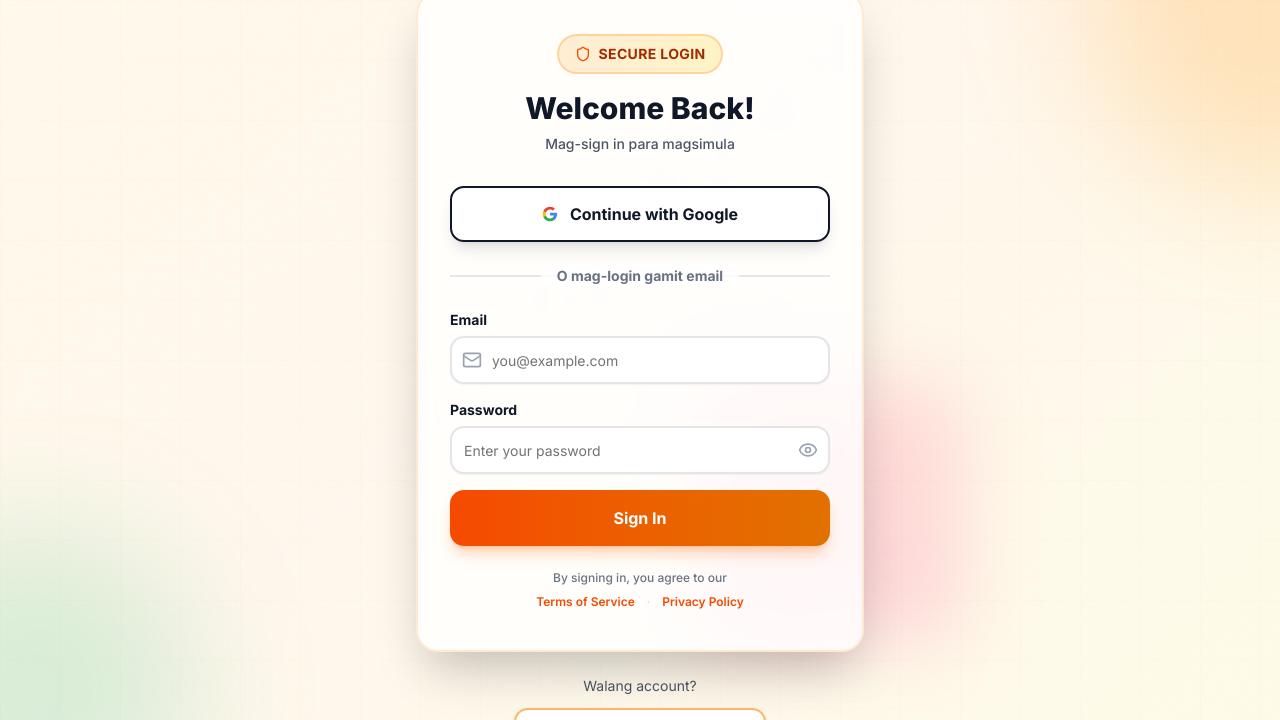
Scenario: Email Login - LoginPage › shows error for unconfirmed email
This screenshot has width=1280, height=720.
(page scrolled)
Type "unconfirmed@example.com" into the field labelled "Email".
click(640, 360); type("unconfirmed@example.com")  # box [450,336,830,384]
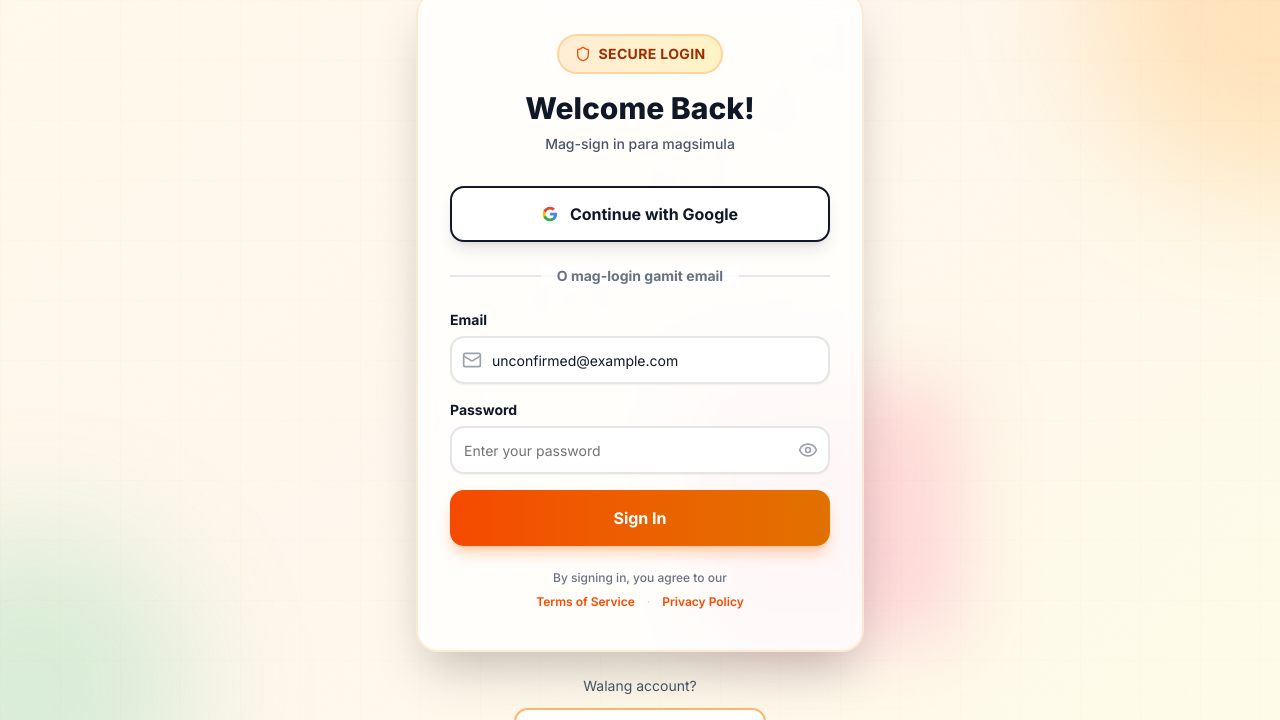
Type "password123" into the password field labelled "Password".
click(640, 450); type("password123")  # box [450,426,830,474]
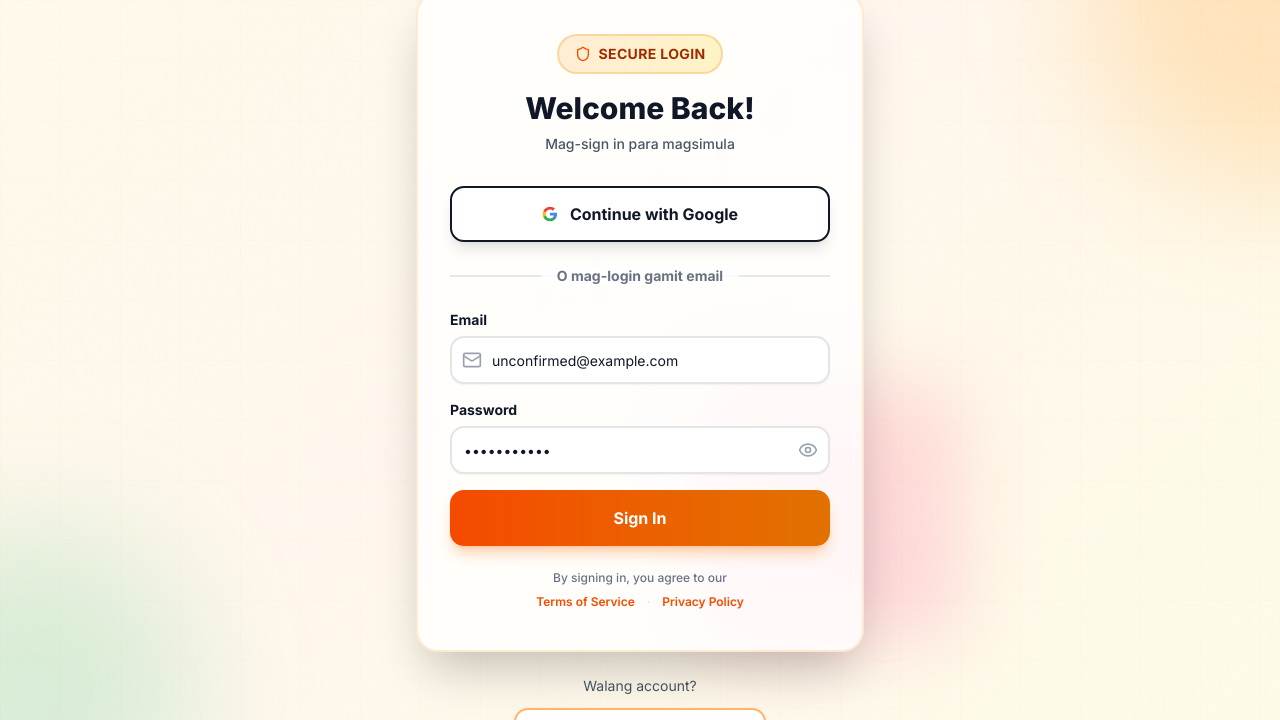
Click the button "Sign In".
click(640, 518)  # box [450,490,830,546]
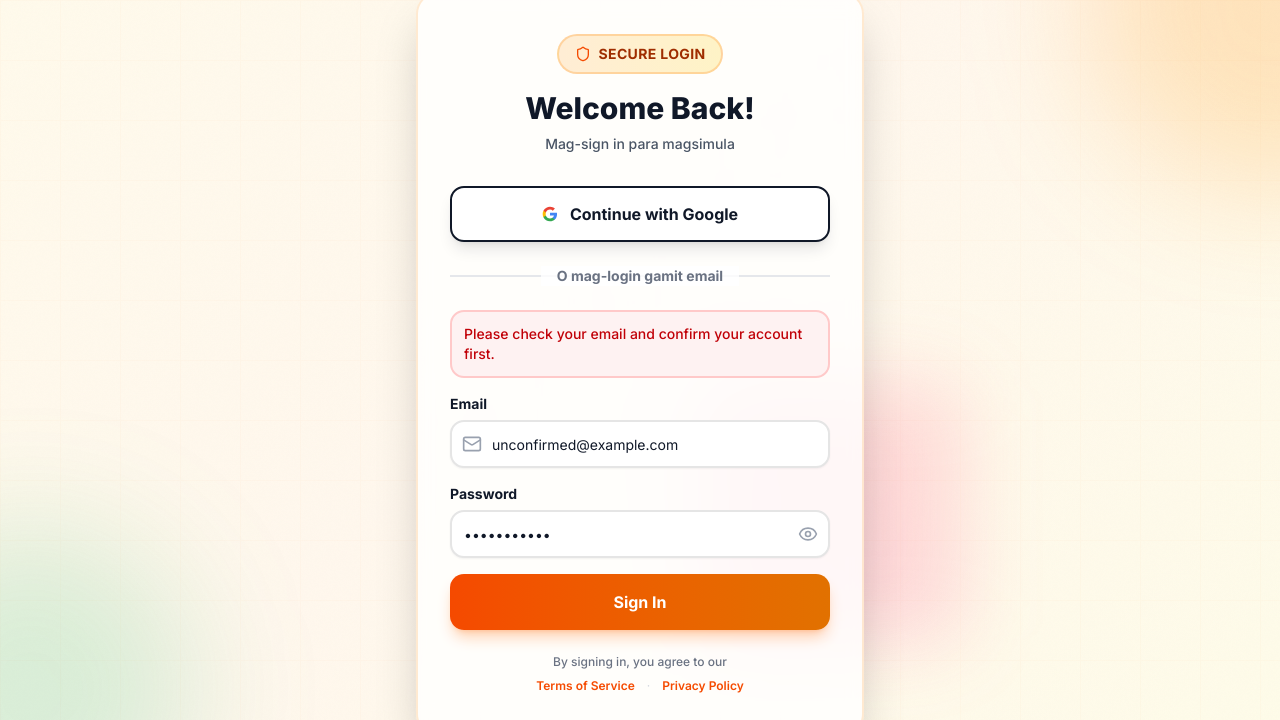
Check: the text "Please check your email and confirm your account first." is shown, box [450,310,830,378]
